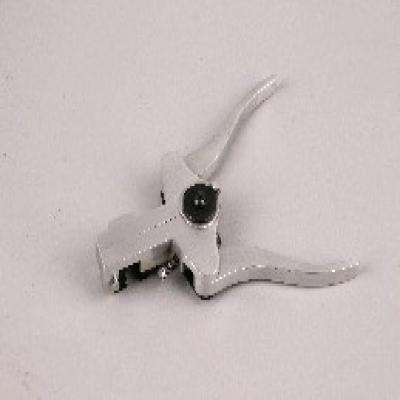technique: (110, 74, 355, 300)
